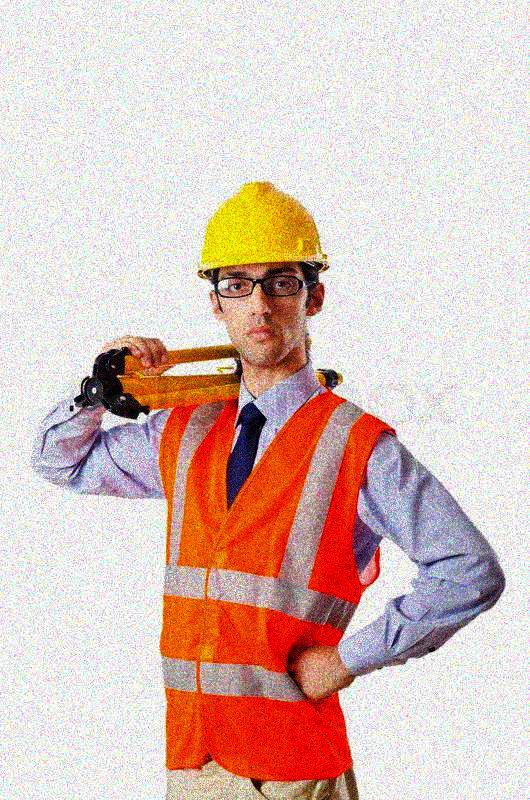helmet: (200, 181, 329, 373)
